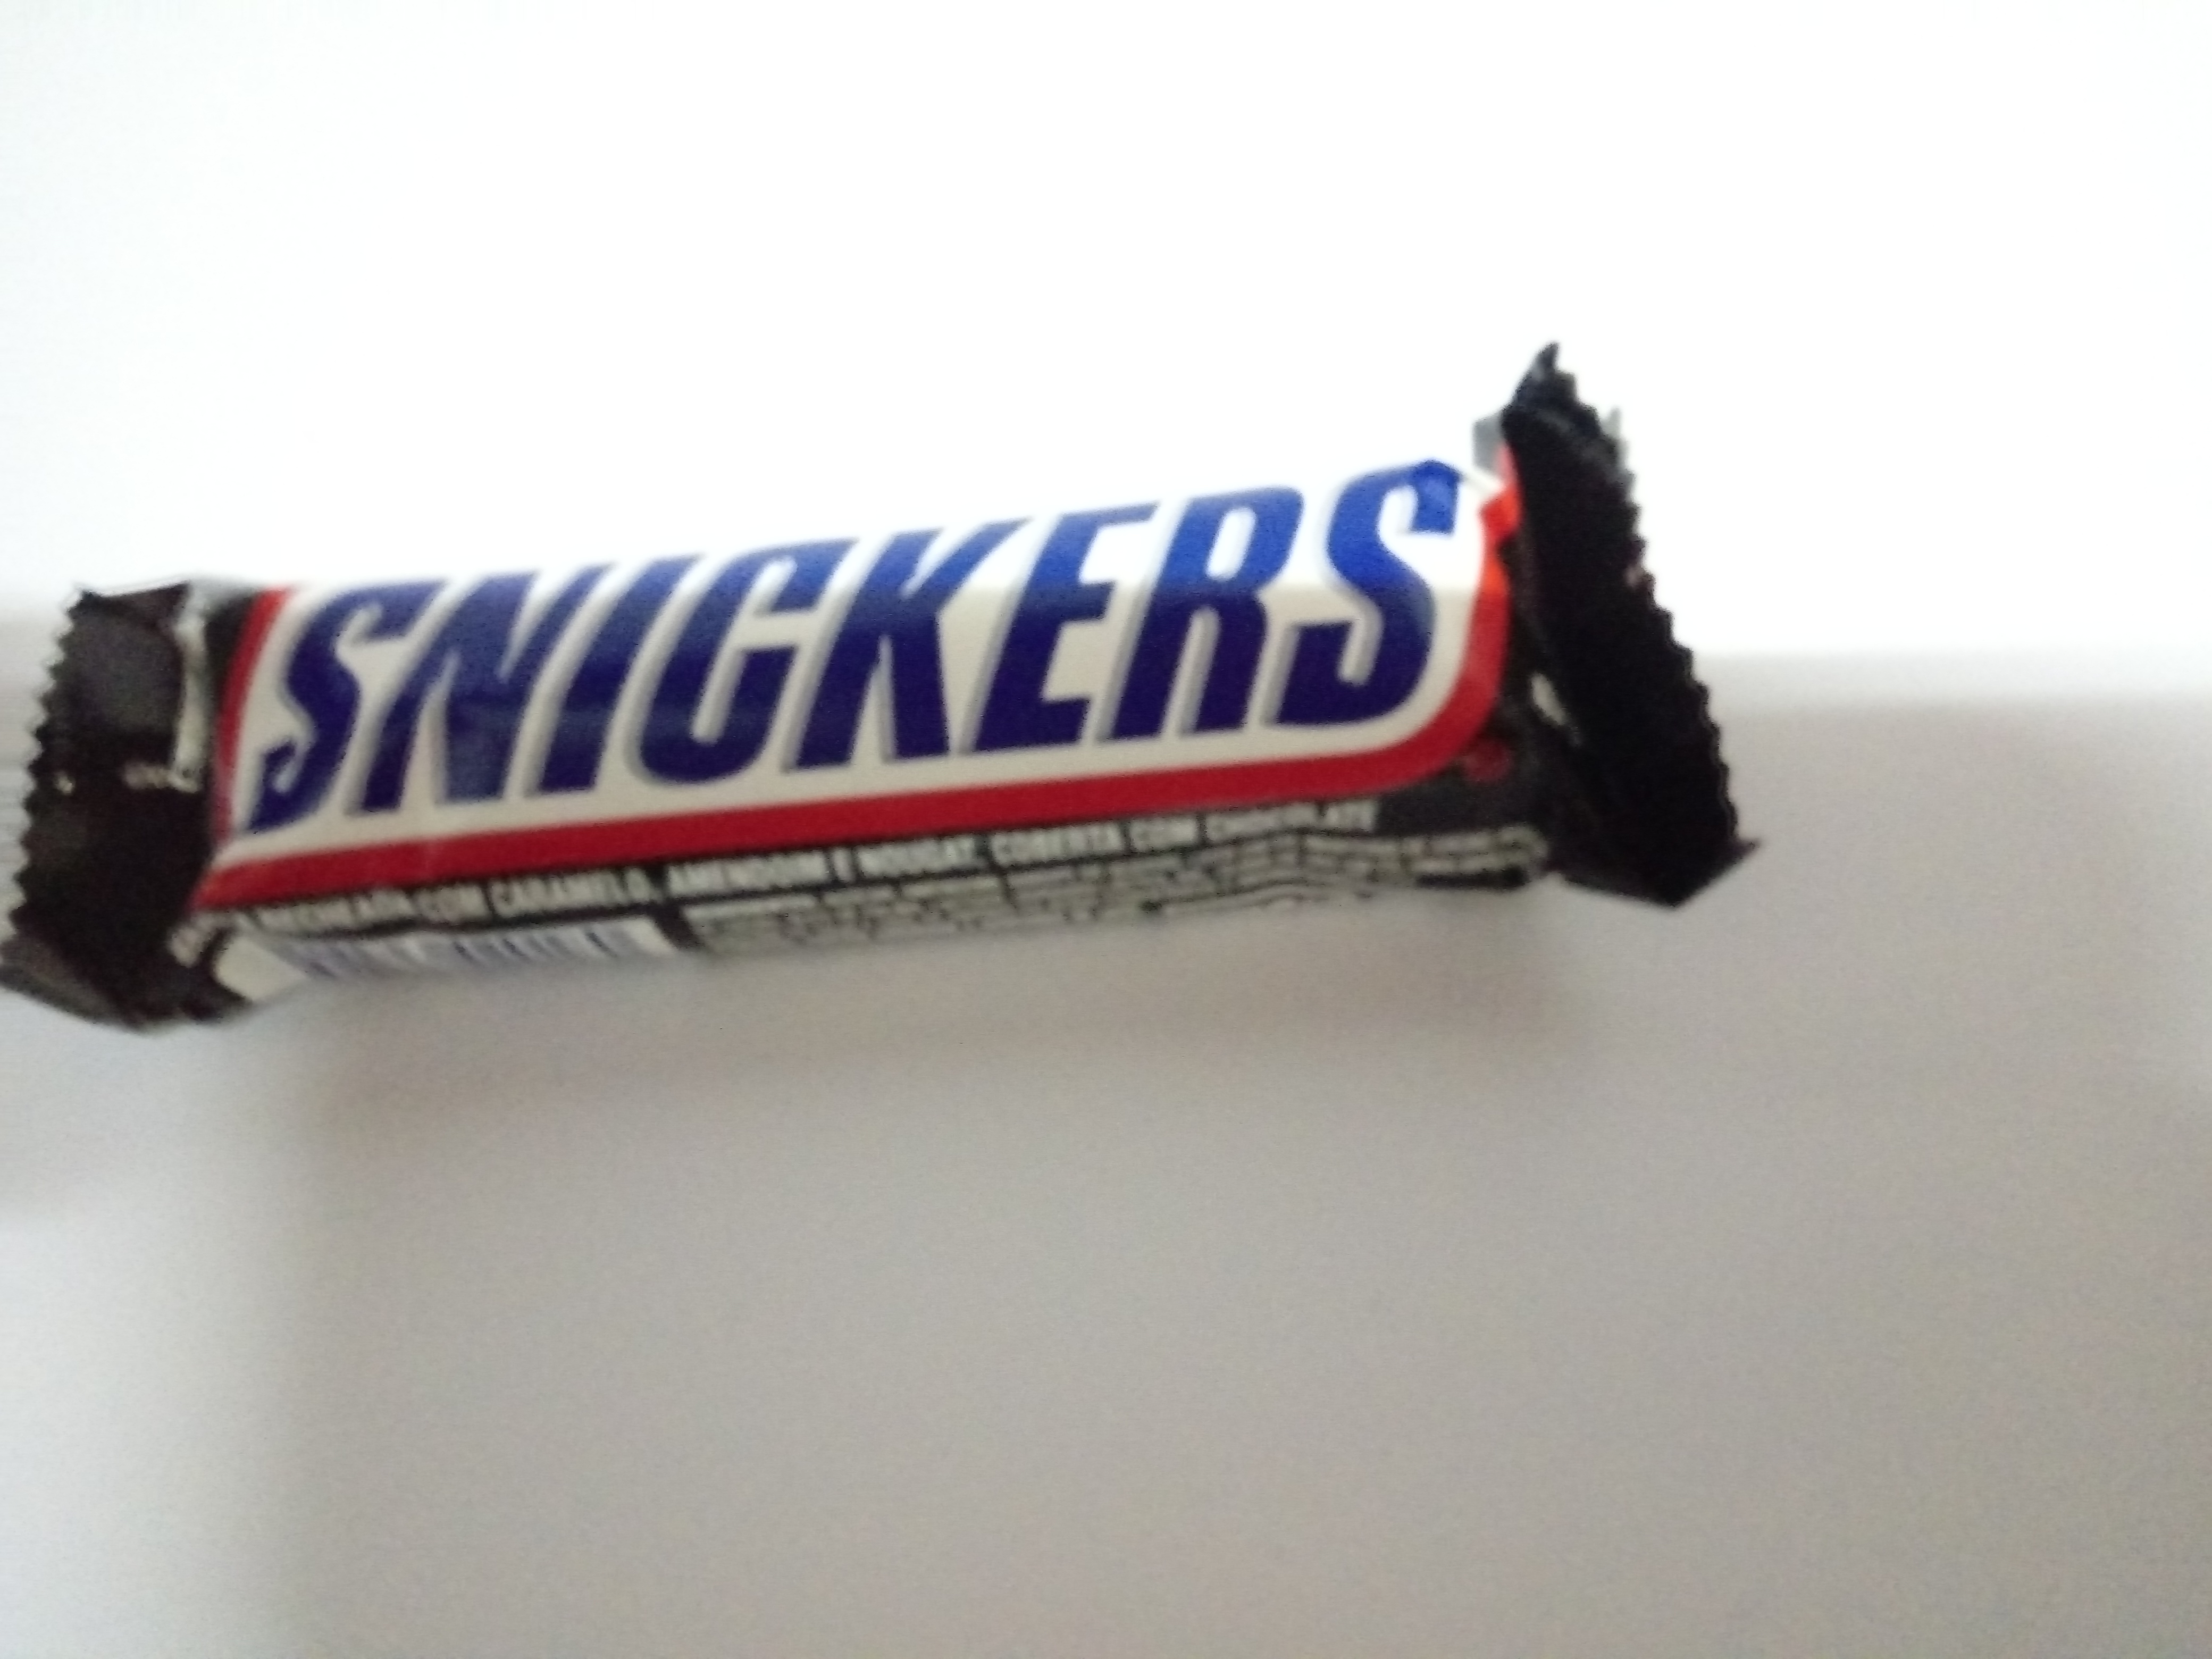snickers: (14, 317, 1797, 1049)
